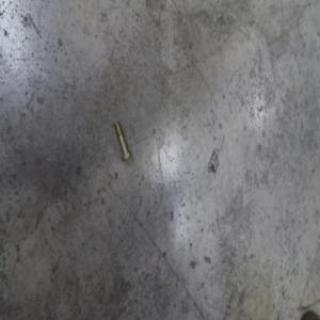Bolttrack_idkeyframe: (111, 119, 130, 163)
